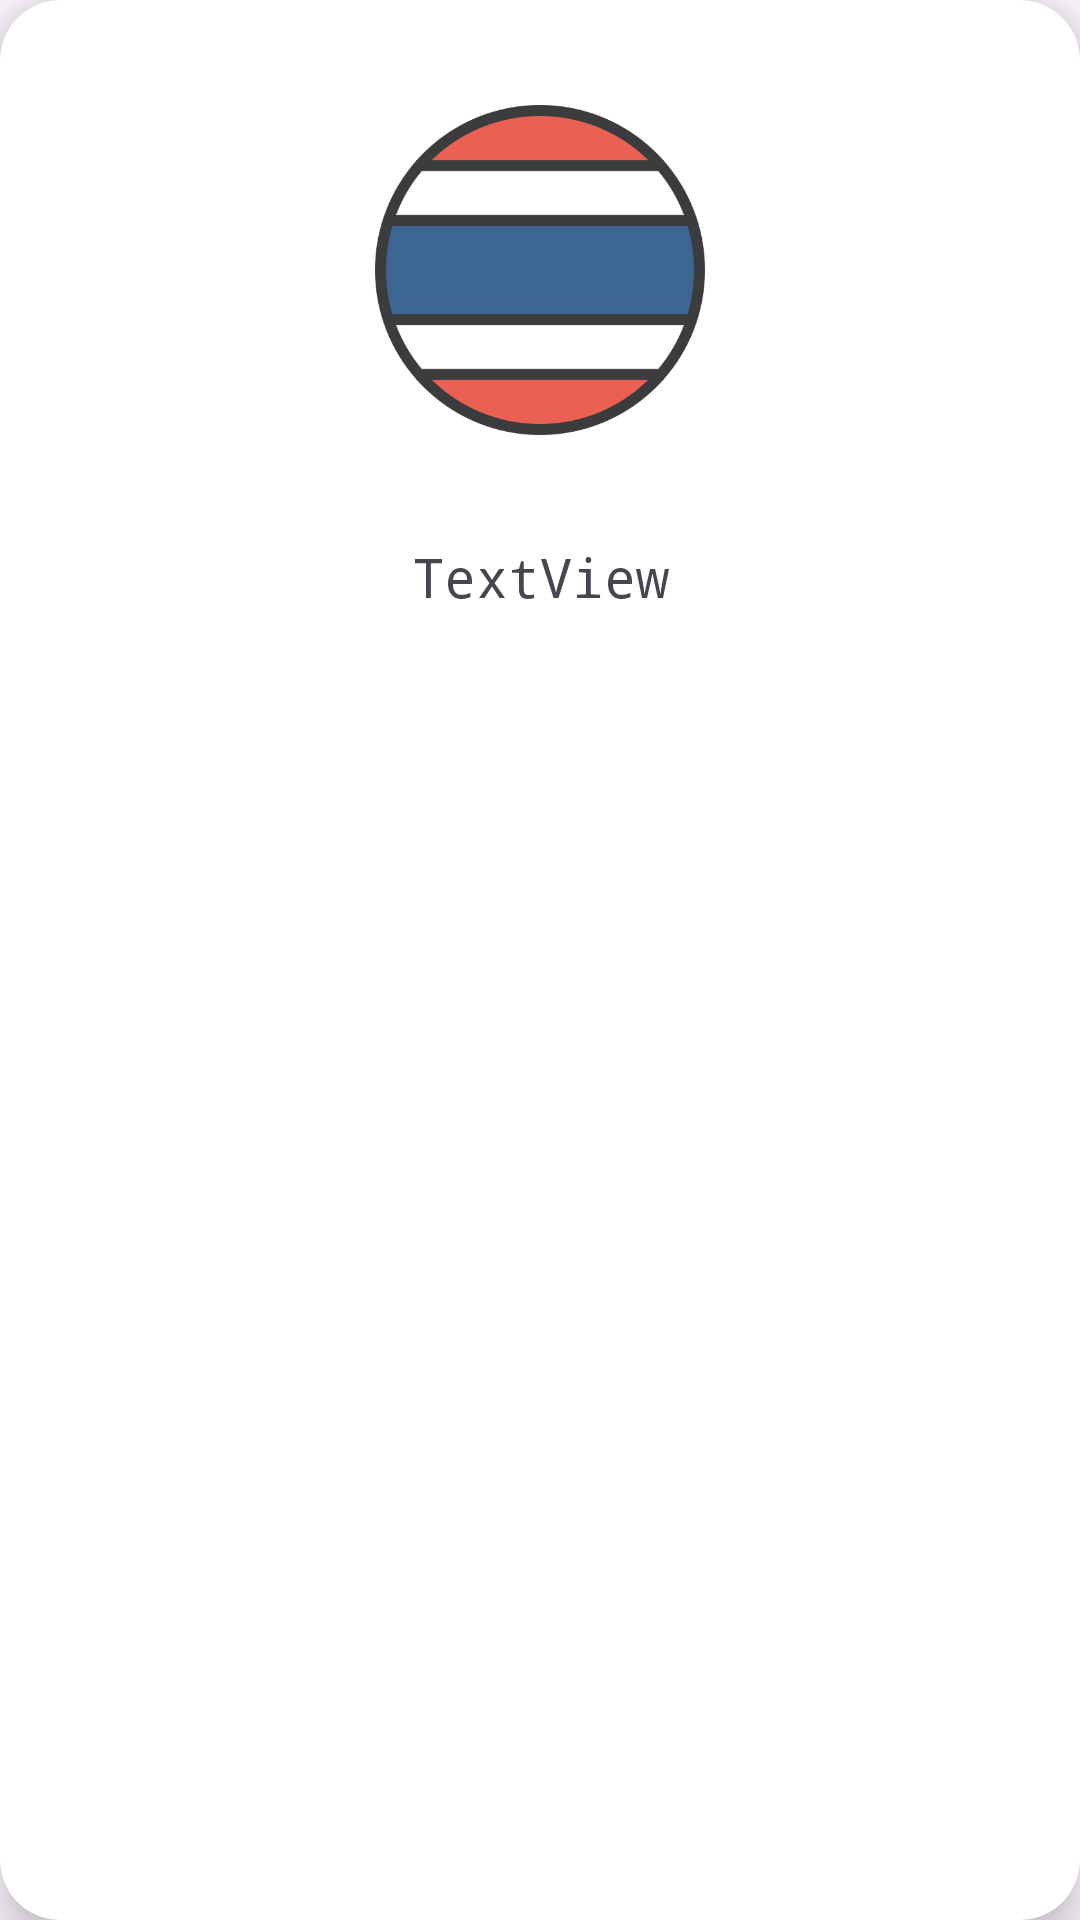

Screen size 1080px×1920px. Icon name, then its center in pixels as (x=x, y=y):
thai: (x=540, y=270)
